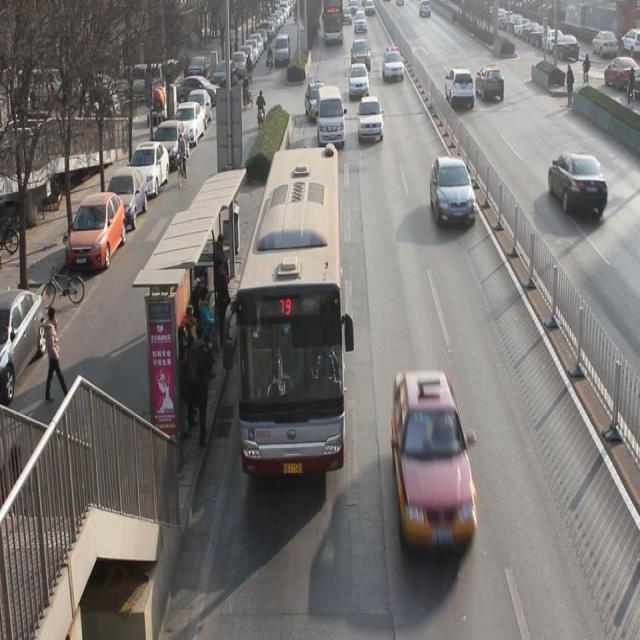car: (392, 372, 481, 548), (551, 152, 609, 218), (430, 156, 476, 230), (447, 64, 475, 114), (358, 96, 385, 142), (478, 64, 506, 107), (382, 46, 408, 84), (304, 81, 328, 120), (351, 39, 374, 74), (348, 65, 369, 98)
truck: (315, 86, 346, 146)
van: (237, 148, 344, 474), (322, 1, 343, 44)
